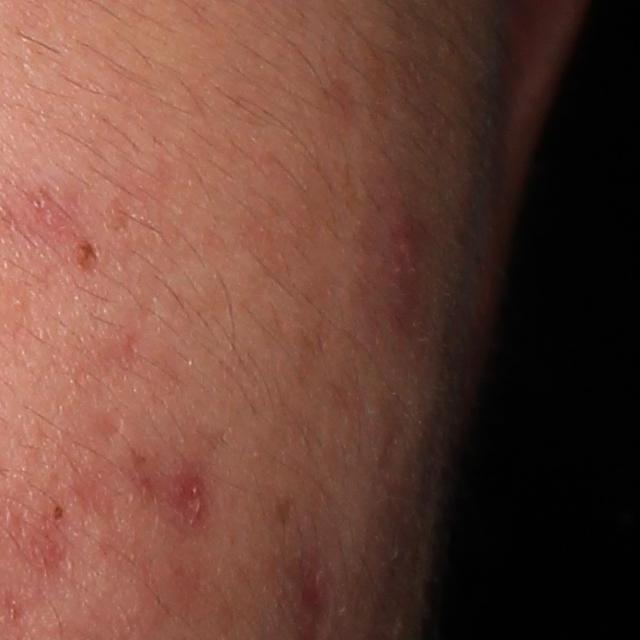atrophic_scar: (155, 448, 215, 548), (73, 475, 123, 520), (100, 404, 125, 438)
nevus: (70, 240, 100, 277), (54, 503, 65, 522)
